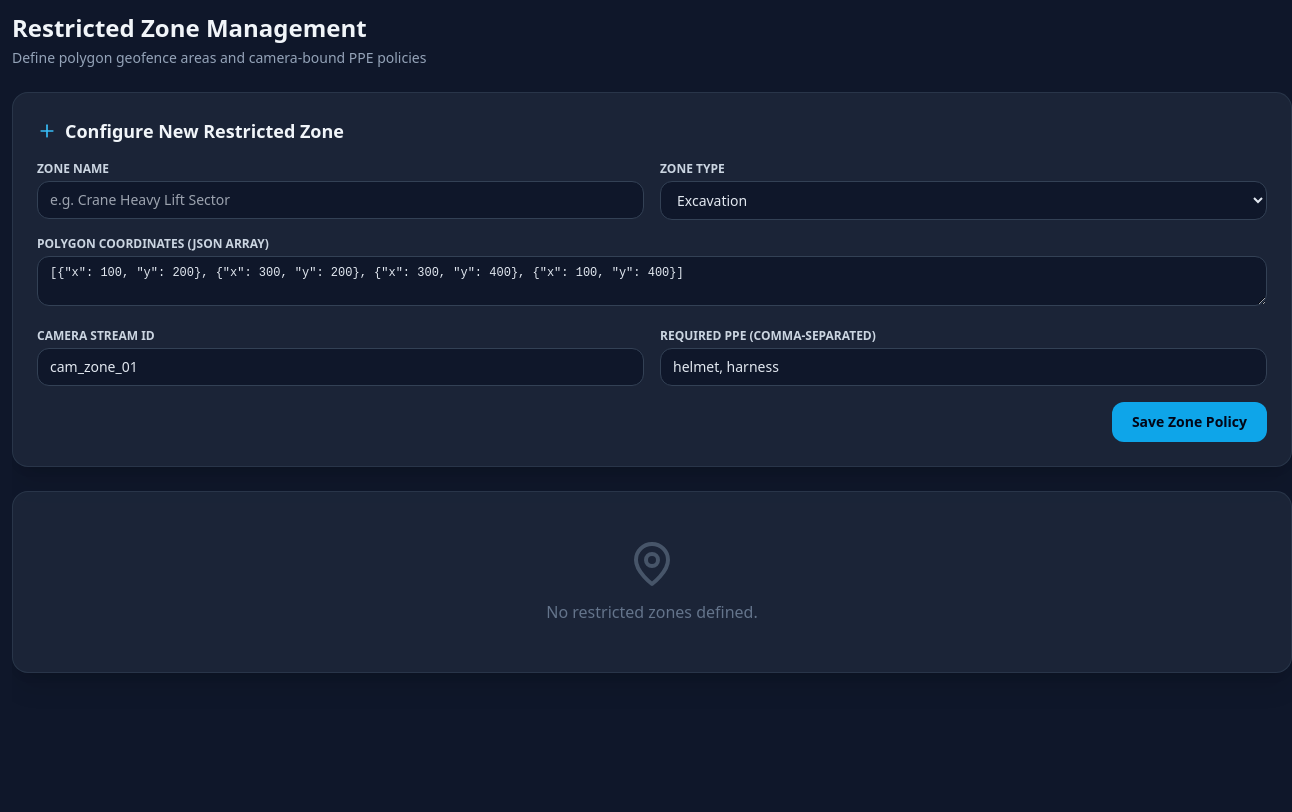
Test: Phase 5 Frontend Additions Integration & Edge Case Test Suite › 3. ZoneManagementPage - Surfaces polygon validation error (< 3 points / degenerate)
expect the text "Configure New Restricted Zone" is shown: met, box [65,117,344,145]
Type "Test Degenerate Zone" into the field with placeholder "e.g. Crane Heavy Lift Sector" at (340, 200), box [37,181,644,219]
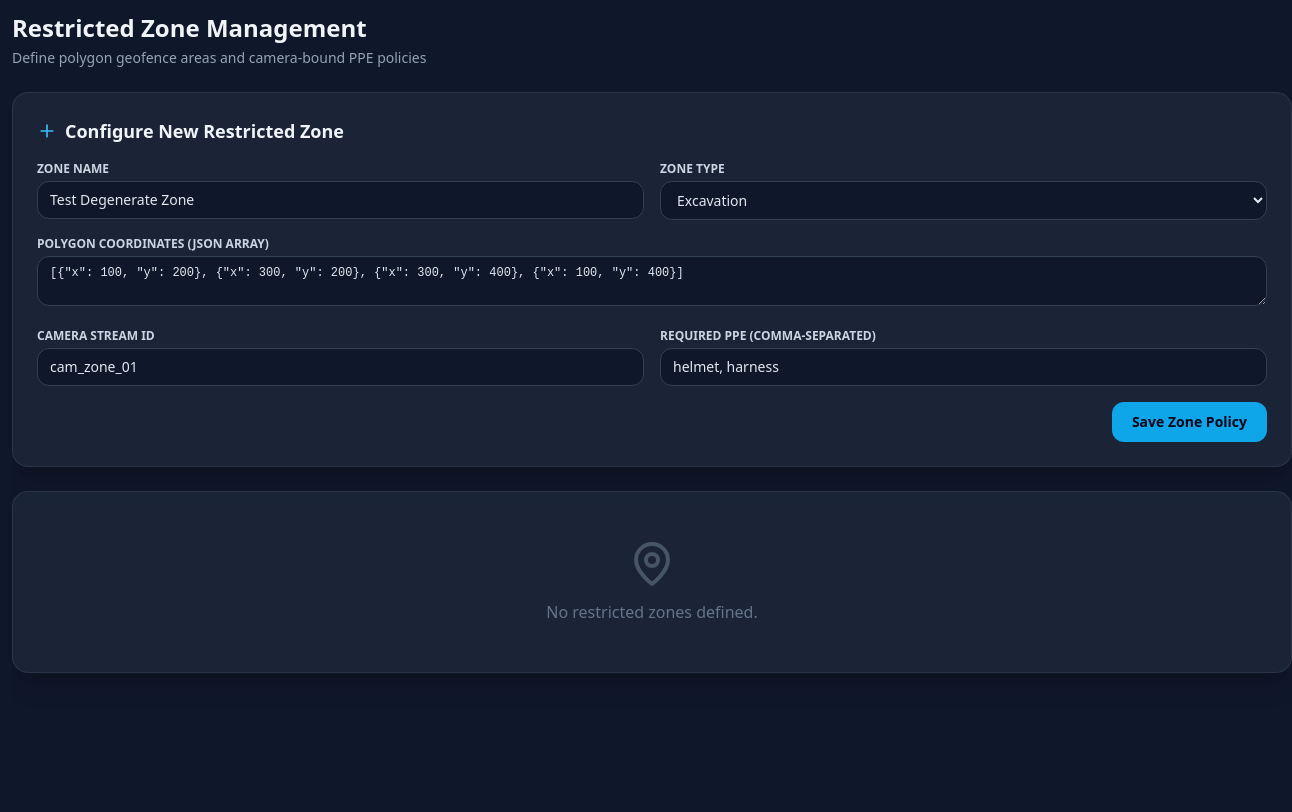
Click the button "Save Zone Policy" at (1189, 422), box [1112,402,1267,442]
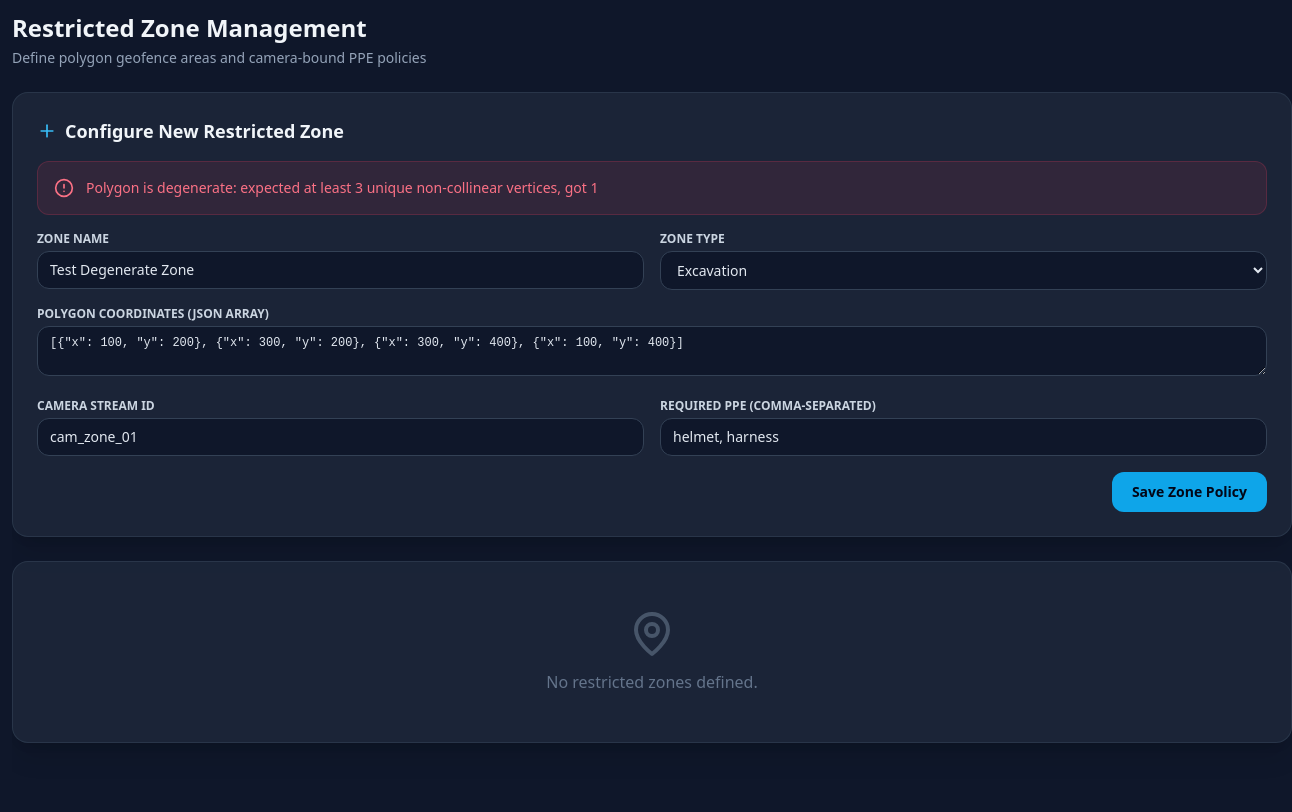
expect the element with test id "zone-form-error" is shown: met, box [37,161,1267,215]
expect the element with test id "zone-form-error" reads "Polygon is degenerate: expected at least 3 unique non-collinear vertices, got 1": met, box [86,178,598,197]
